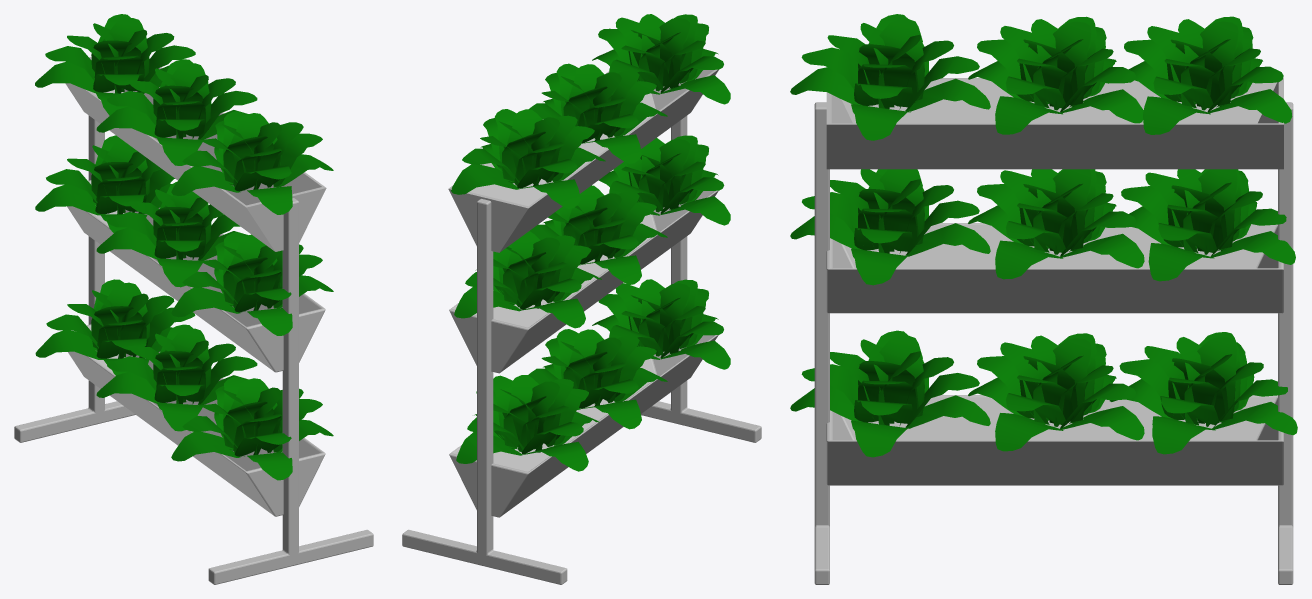
Rendered from hydroponic.glb.
The picture shows the model from 3 angles, left to right: view 1: azimuth 30°, elevation 25°; view 2: azimuth 150°, elevation 25°; view 3: azimuth 270°, elevation 25°; orthographic projection. The views are drawn at different scales.
Visible parts, largest first — view 1: Cube.003, Cube.002, Cube, Cube.001, Cube.004, Plane.008, Plane.056, Plane.104, Plane.040, Plane.088, Plane.136, Plane.120 (+67 smaller); view 2: Cube.004, Cube.002, Cube, Cube.001, Cube.003, Plane.140, Plane.111, Plane.063, Plane.015, Plane.008, Plane.056, Plane.104 (+74 smaller); view 3: Cube.002, Cube, Cube.001, Cube.003, Cube.004, Plane.135, Plane.039, Plane.119, Plane.023, Plane.068, Plane.020, Plane.132 (+79 smaller).
Boxes of the visible parts, box(x1,y1,x2,y2) form: Cube.003: box(208, 198, 373, 584); Cube.002: box(65, 58, 326, 251); Cube: box(56, 324, 325, 516); Cube.001: box(67, 180, 325, 372); Cube.004: box(14, 57, 135, 442); Plane.008: box(171, 432, 240, 461); Plane.056: box(171, 287, 240, 317); Plane.104: box(171, 166, 240, 195); Plane.040: box(35, 330, 102, 359); Plane.088: box(35, 184, 100, 215); Plane.136: box(35, 61, 98, 93); Plane.120: box(96, 106, 159, 138); Cube.004: box(402, 198, 567, 584); Cube.002: box(448, 69, 718, 252); Cube: box(449, 335, 718, 517); Cube.001: box(449, 190, 718, 373); Cube.003: box(641, 115, 761, 442); Plane.140: box(451, 164, 519, 194); Plane.111: box(659, 18, 689, 88); Plane.063: box(659, 139, 689, 209); Plane.015: box(659, 283, 689, 354); Plane.008: box(660, 340, 730, 369); Plane.056: box(660, 196, 730, 225); Plane.104: box(660, 75, 730, 104); Cube.002: box(826, 78, 1283, 169); Cube: box(826, 395, 1283, 485); Cube.001: box(826, 223, 1283, 313); Cube.003: box(814, 102, 829, 584); Cube.004: box(1278, 102, 1293, 584); Plane.135: box(1200, 21, 1238, 106); Plane.039: box(1197, 337, 1237, 422); Plane.119: box(1053, 21, 1091, 106); Plane.023: box(1053, 338, 1091, 423); Plane.068: box(995, 240, 1063, 279); Plane.020: box(995, 413, 1063, 451); Plane.132: box(1143, 96, 1210, 134).
Size of the model in its own units: 0.9436 by 2.32 by 2.13.
